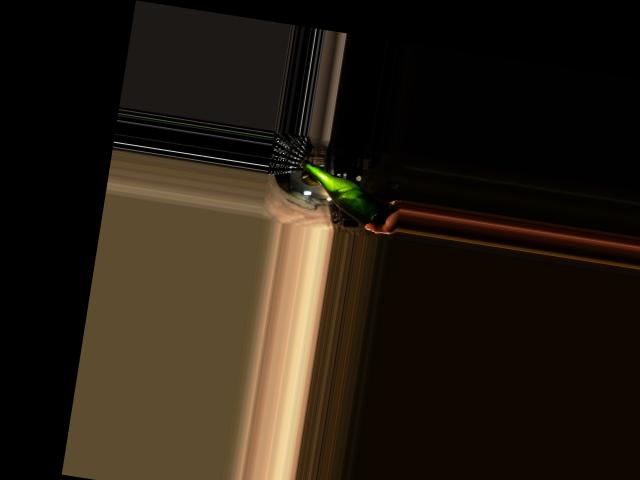beer: (291, 156, 396, 231)
